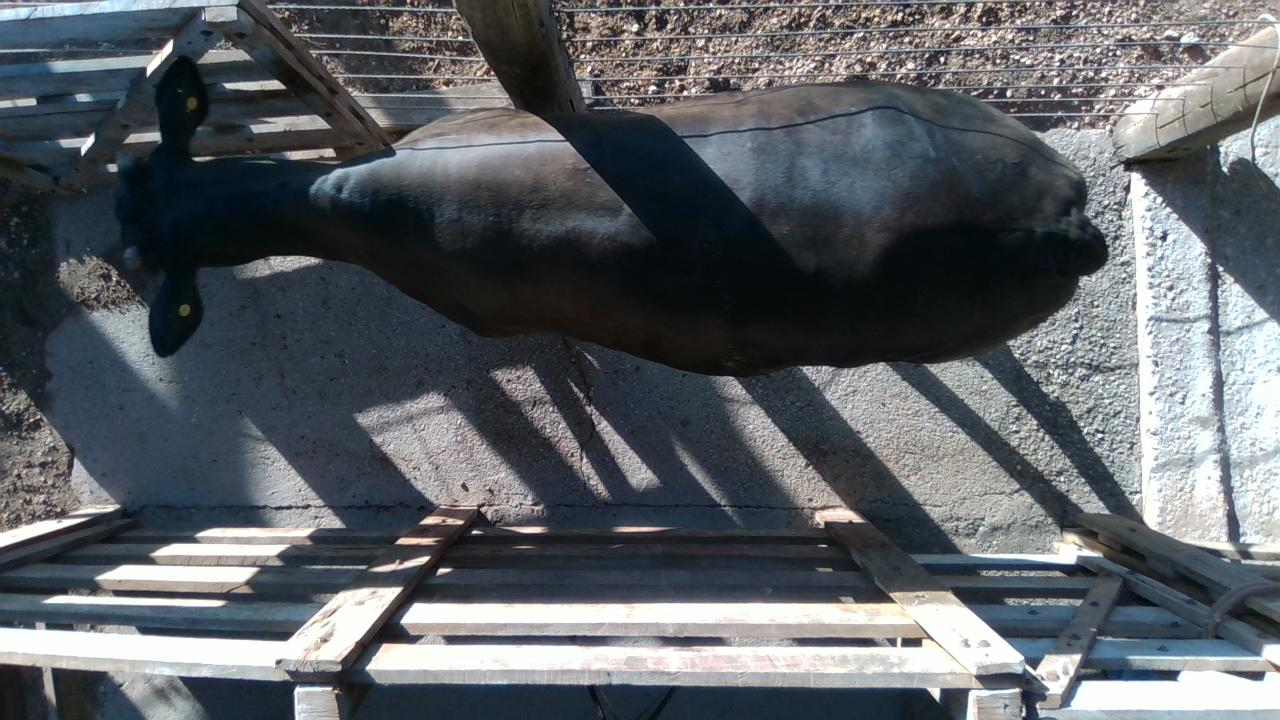cattle: (112, 55, 1109, 378)
